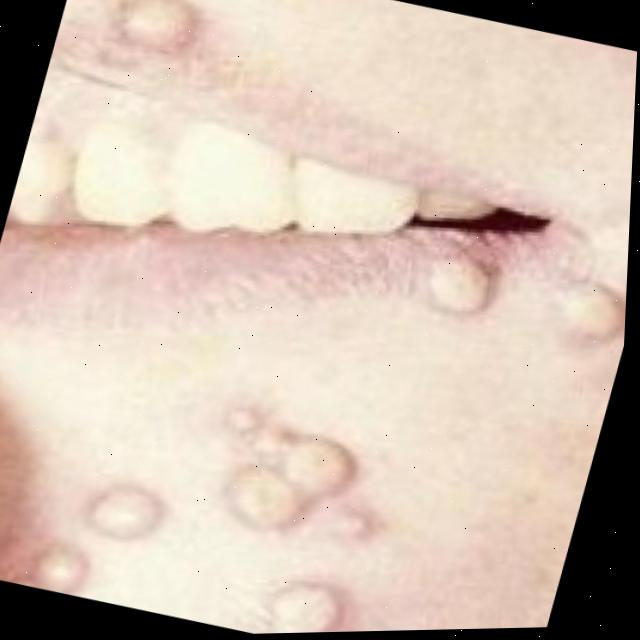Eczema: (41, 374, 420, 621), (543, 277, 627, 355), (126, 0, 201, 67), (410, 257, 489, 318)
